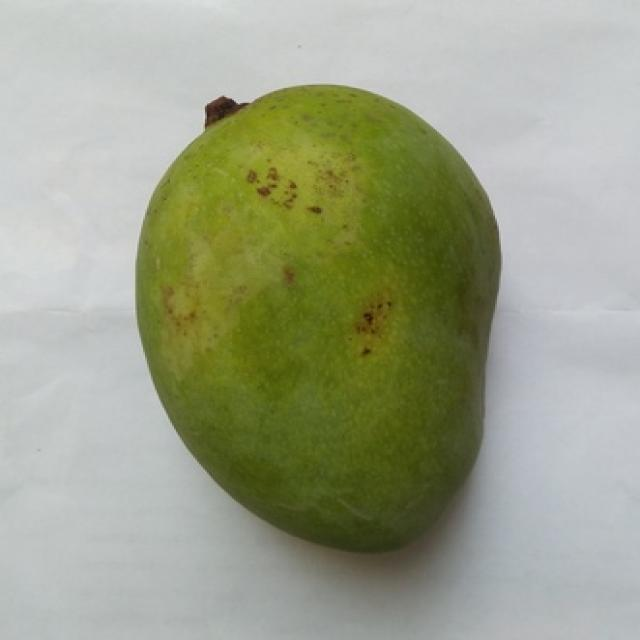Mango: (137, 85, 499, 551)
